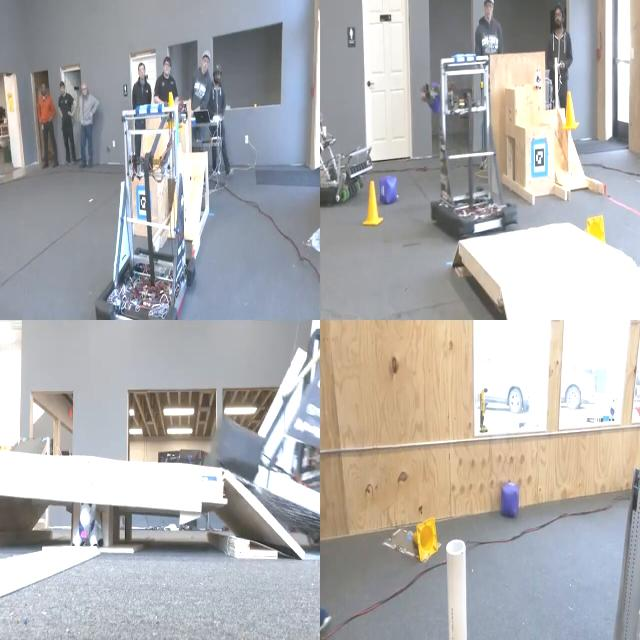frc_cone: (413, 512, 440, 564), (158, 96, 184, 148), (362, 181, 379, 231), (585, 216, 612, 247), (562, 92, 578, 134)
frc_cube: (500, 481, 521, 520), (379, 173, 399, 211)
